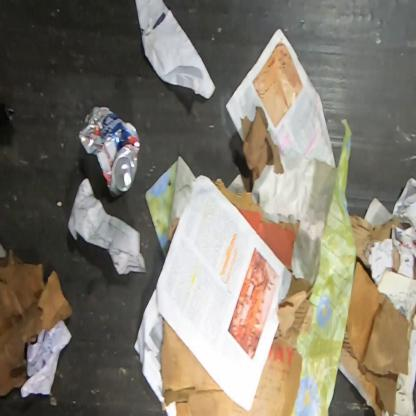cardboard: (158, 275, 315, 415), (345, 259, 415, 415), (211, 179, 301, 275), (349, 214, 411, 276), (339, 328, 361, 382), (413, 264, 416, 280)
metal: (78, 106, 141, 197)
